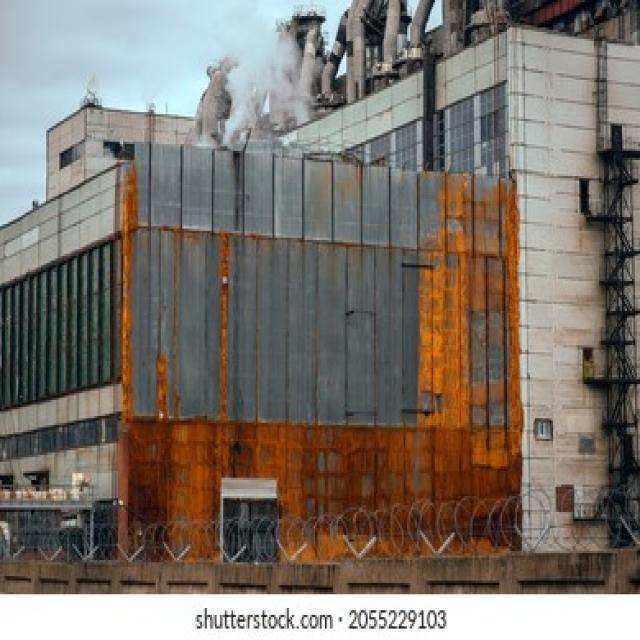corrosion: (111, 153, 531, 567), (235, 235, 415, 420), (139, 153, 428, 235), (466, 174, 506, 421), (139, 225, 217, 351), (0, 469, 96, 503), (171, 356, 216, 411), (135, 353, 154, 410)
